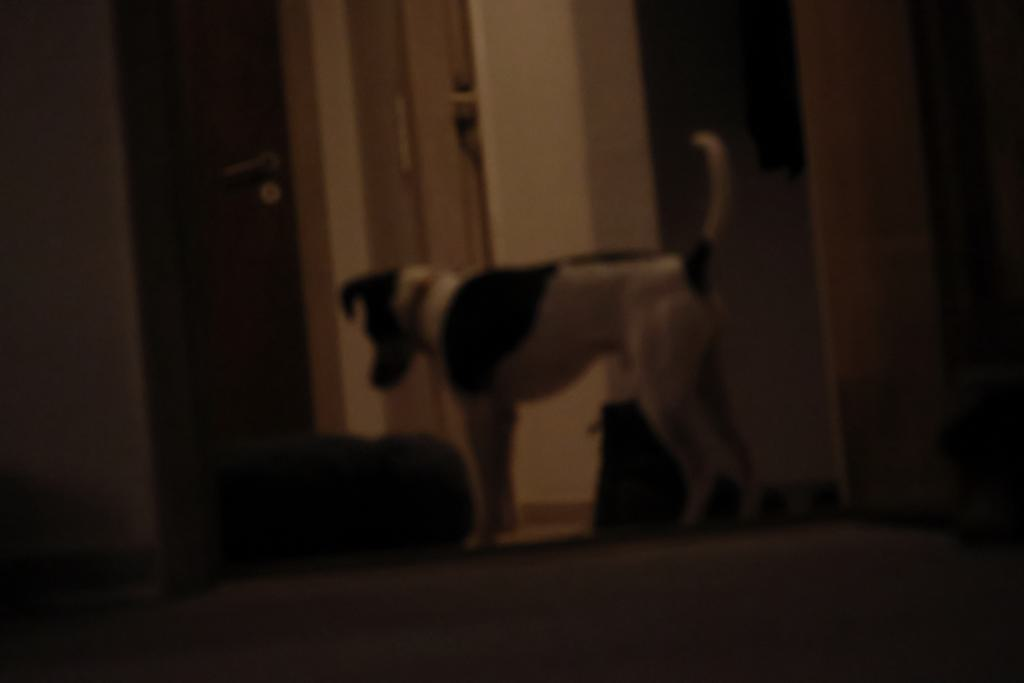Dog: (327, 123, 747, 564)
